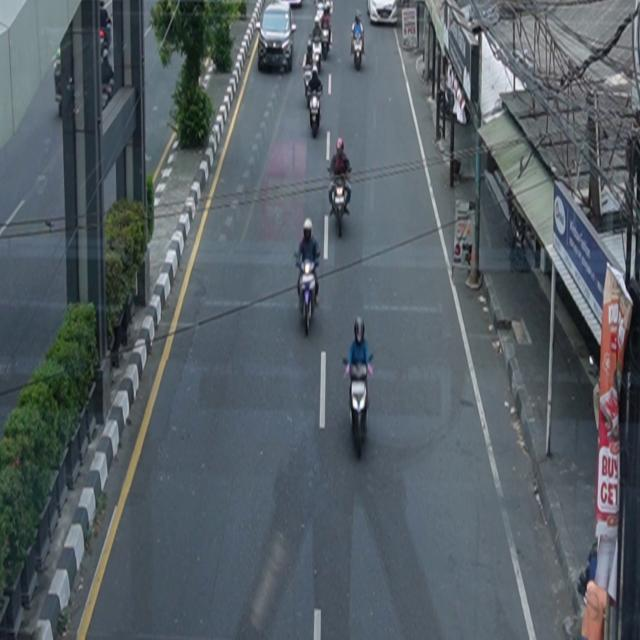car: (257, 1, 297, 74), (367, 1, 398, 26)
